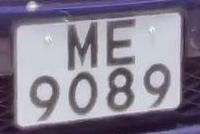0: (64, 69, 103, 121)
8: (103, 63, 140, 117)
9: (24, 68, 67, 127), (138, 61, 175, 113)
E: (101, 15, 142, 71)
M: (62, 19, 105, 75)
